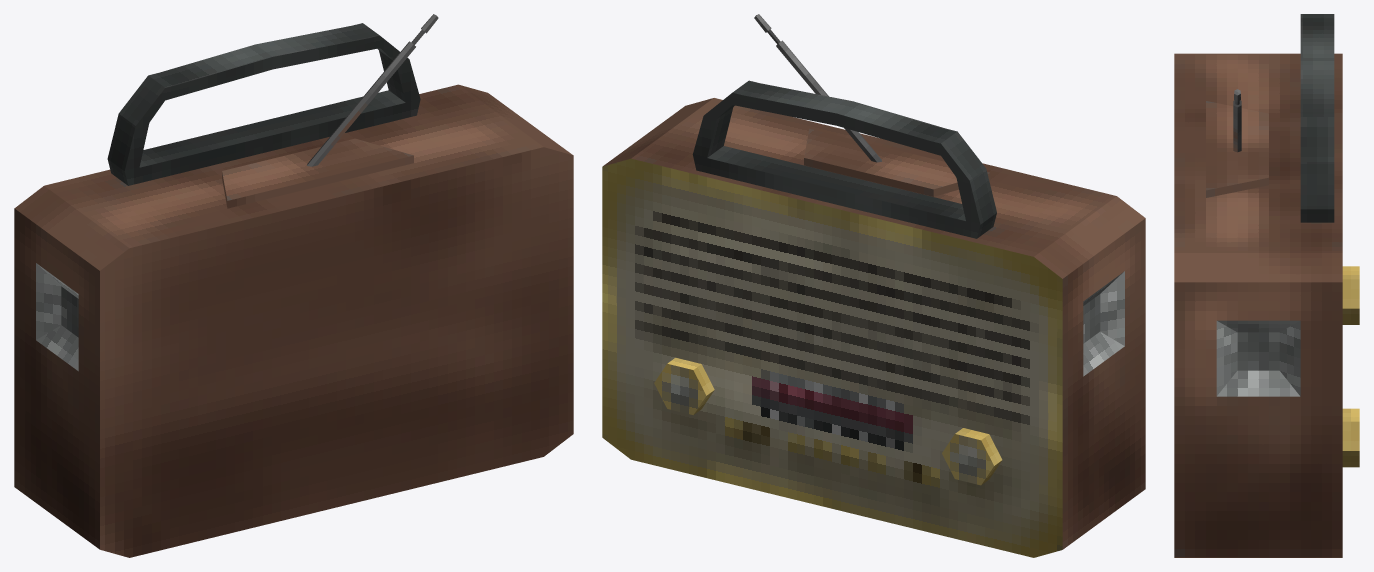
Rendered from stack-radio.gltf.
3 renders of one model, left to right at view 1: azimuth 30°, elevation 25°; view 2: azimuth 150°, elevation 25°; view 3: azimuth 270°, elevation 25°, orthographic. The views are drawn at different scales.
Visible parts, largest first — view 1: radio, antena; view 2: radio, btn_right, btn_left, antena; view 3: radio, btn_left, btn_right, antena.
Part boxes in pixels (x1,y1,x2,y2): radio: (14,23,573,557); antena: (307,14,438,166); radio: (602,80,1145,557); btn_right: (942,428,1002,485); btn_left: (654,357,714,415); antena: (754,14,881,162); radio: (1174,14,1342,557); btn_left: (1342,408,1359,467); btn_right: (1342,266,1359,324); antena: (1233,89,1241,152).
Size of the model in its own units: 0.2 by 0.1768 by 0.0688.
1 material, 1 textured.
